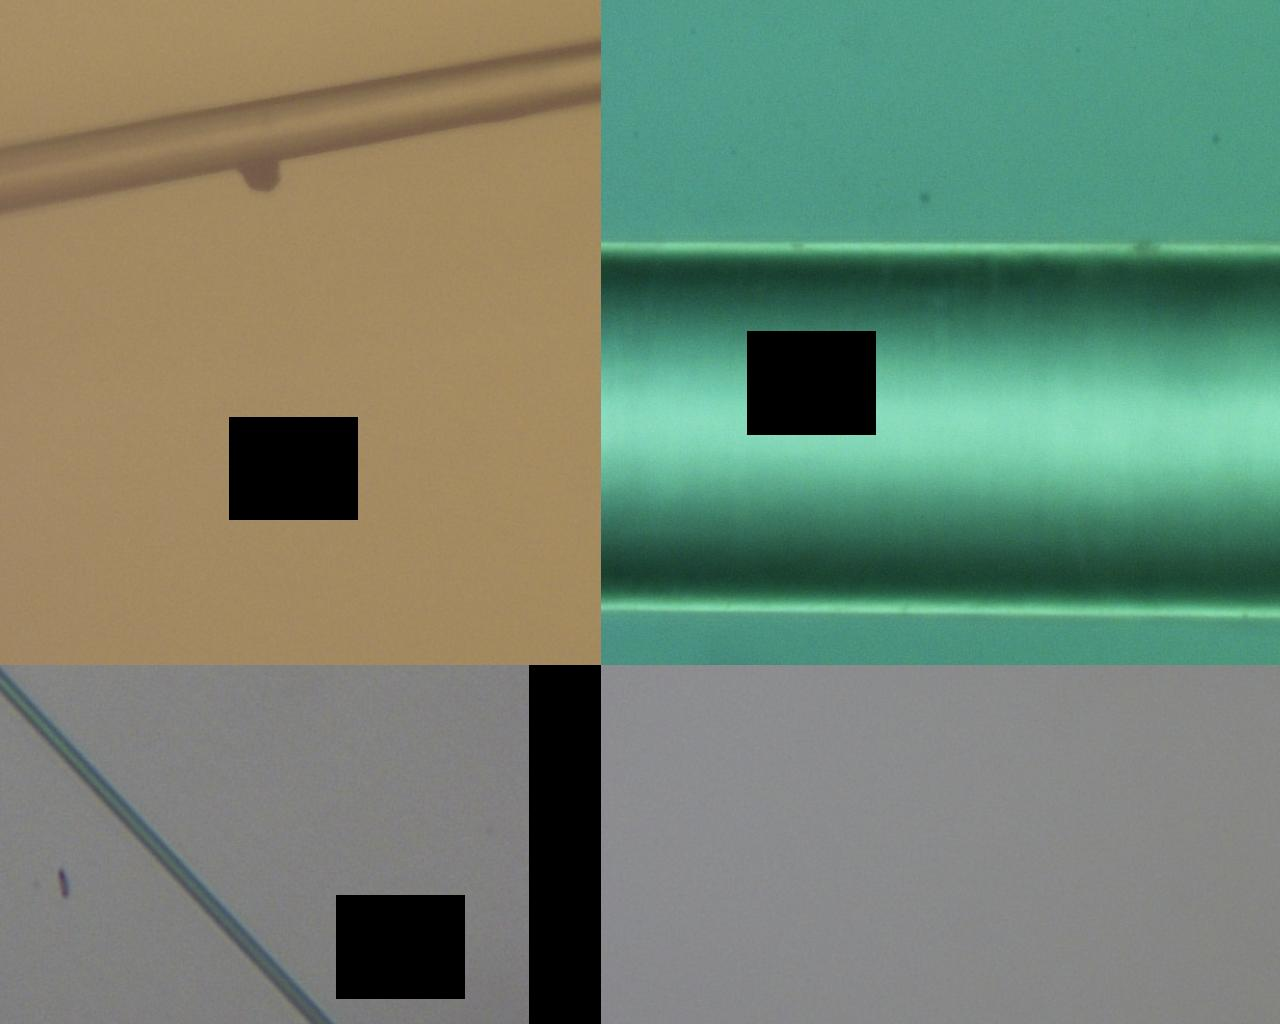fiber: (685, 614, 1280, 1024), (0, 298, 640, 557), (640, 532, 1234, 614)
